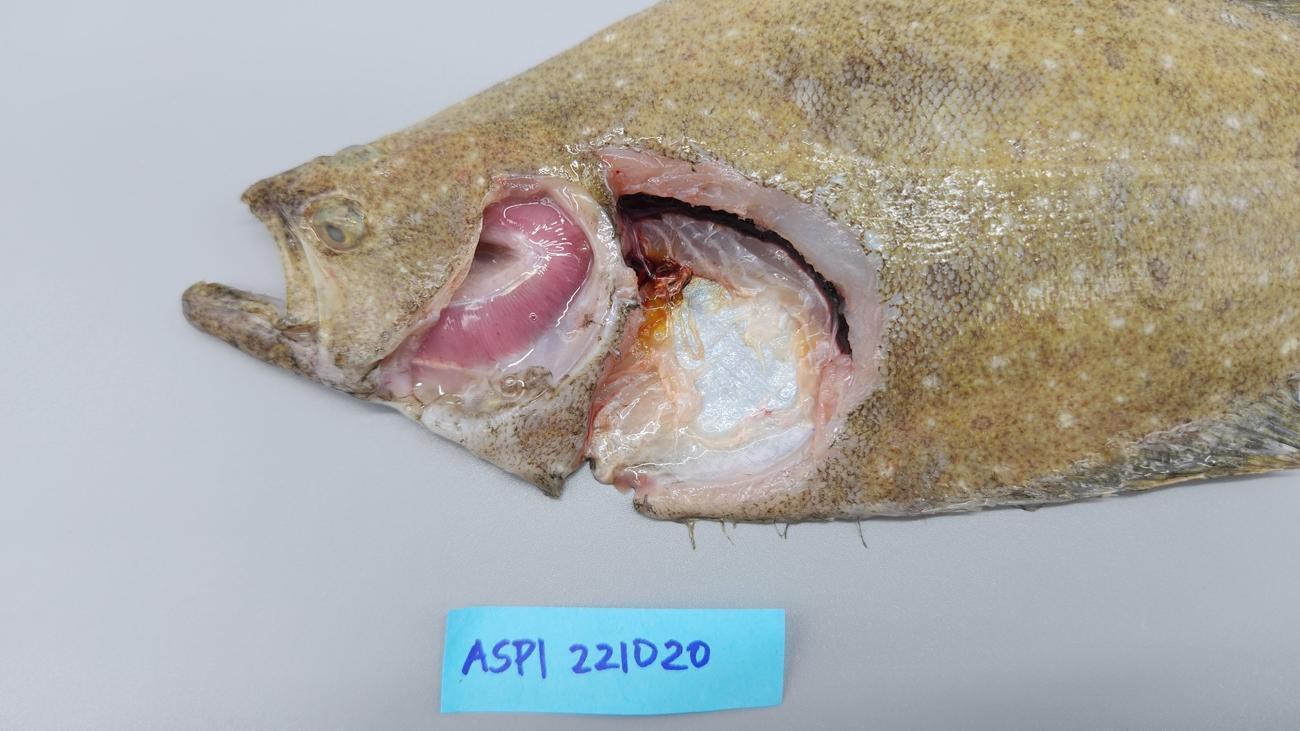SPASQ: (591, 233, 832, 473)
